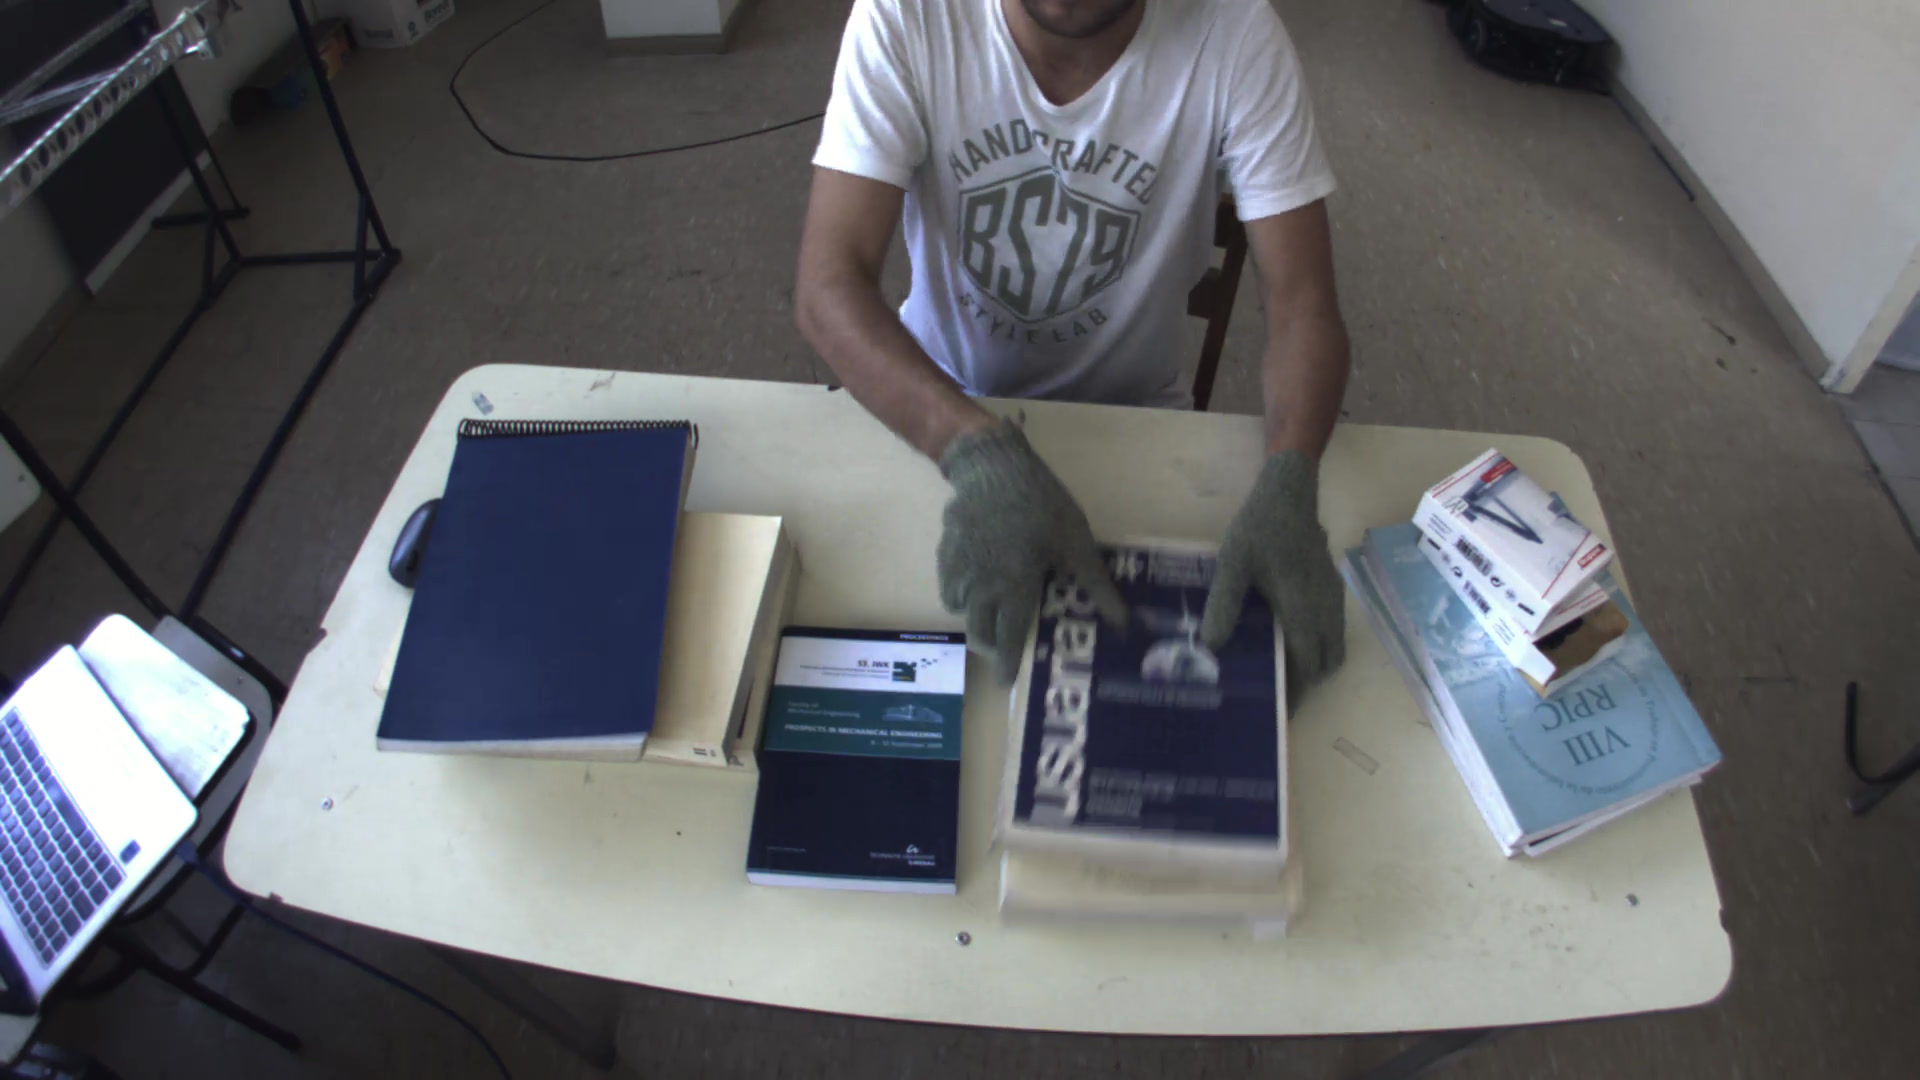hand: (918, 411, 1135, 640), (1203, 436, 1365, 691)
